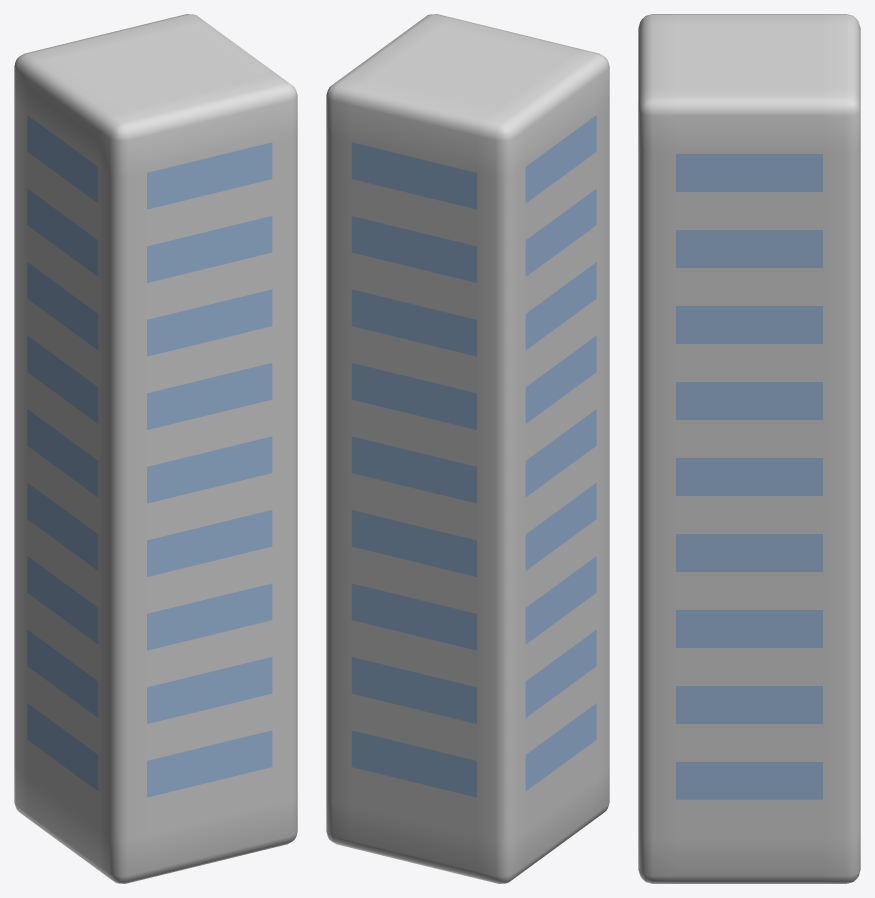
Rendered from Building_2.fbx.
The picture shows the model from 3 angles, left to right: view 1: azimuth 30°, elevation 25°; view 2: azimuth 150°, elevation 25°; view 3: azimuth 270°, elevation 25°; orthographic projection. The views are drawn at different scales.
Visible parts, largest first — view 1: Building_2; view 2: Building_2; view 3: Building_2.
Part boxes in pixels (x1,y1,x2,y2): Building_2: (14,14,297,883); Building_2: (326,14,609,883); Building_2: (638,14,860,883).
Bounding box in the file's own units: 82.96 × 324 × 82.96.
